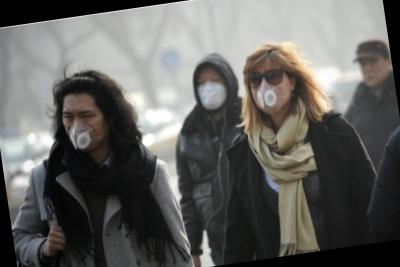with_mask: (60, 101, 107, 153), (249, 64, 294, 115), (195, 71, 229, 114)
without_mask: (358, 53, 389, 88)
